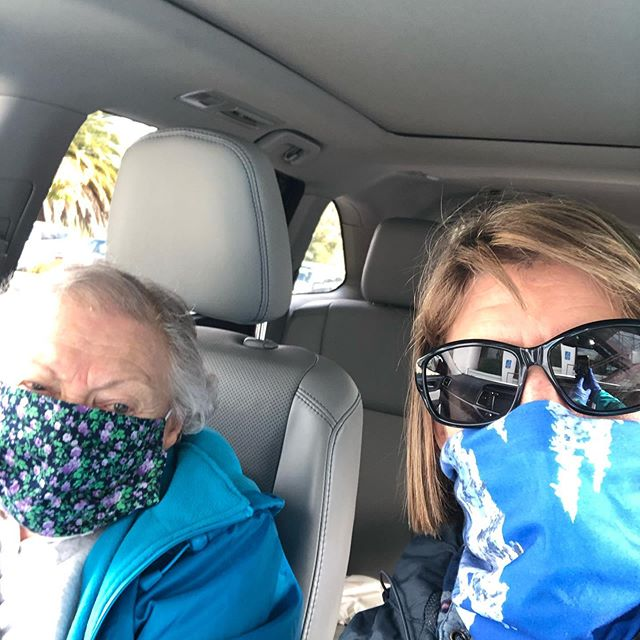homemade: (427, 410, 640, 635), (3, 385, 161, 531)
